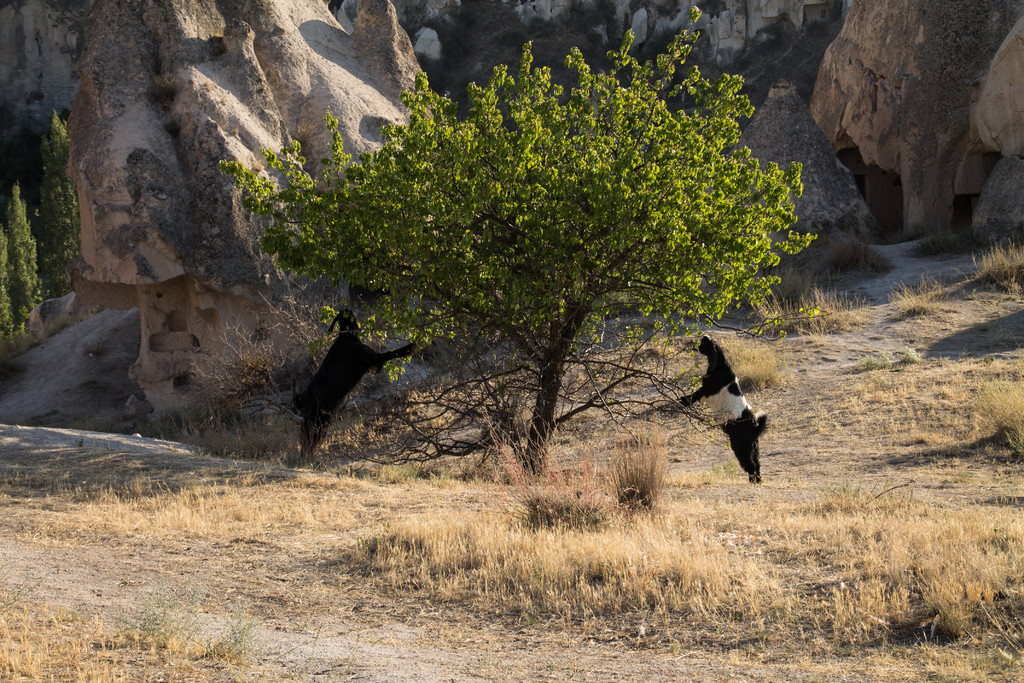Animal: (294, 308, 415, 466), (680, 335, 767, 481)
